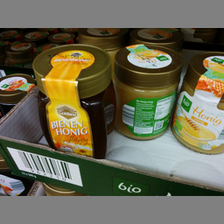honey: (31, 45, 119, 162), (115, 44, 180, 142), (170, 47, 224, 153)
